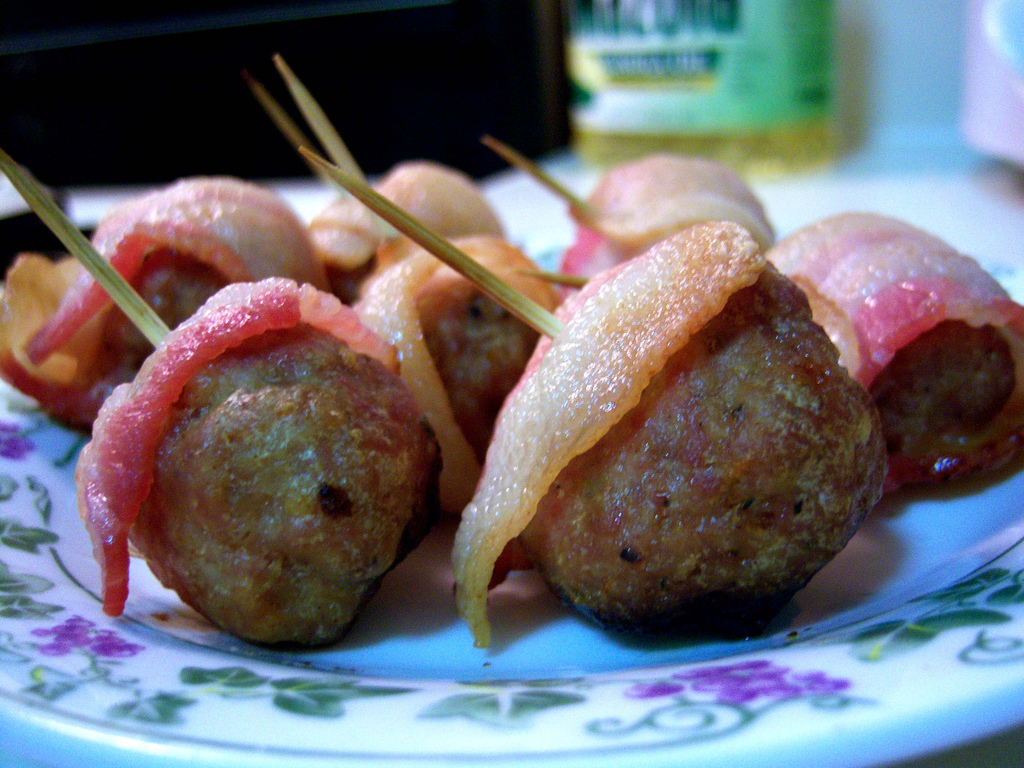meatballs: (495, 301, 890, 630), (147, 366, 427, 635)
